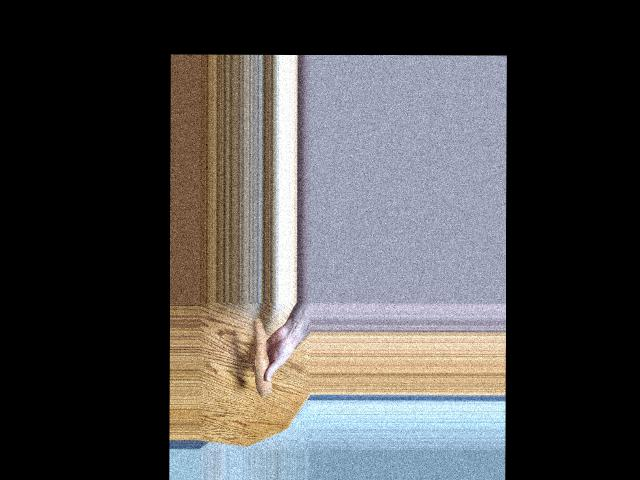sweet_potato: (251, 315, 269, 395)
